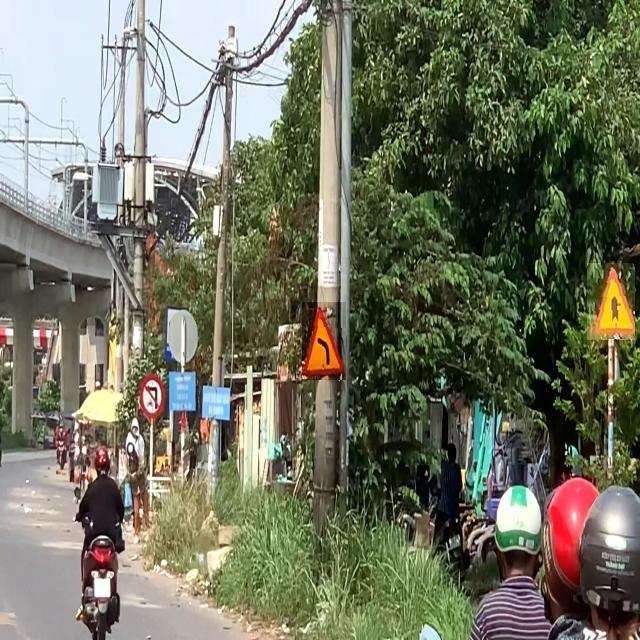bien_nguy_hiem: (587, 263, 635, 340), (302, 302, 346, 380)
